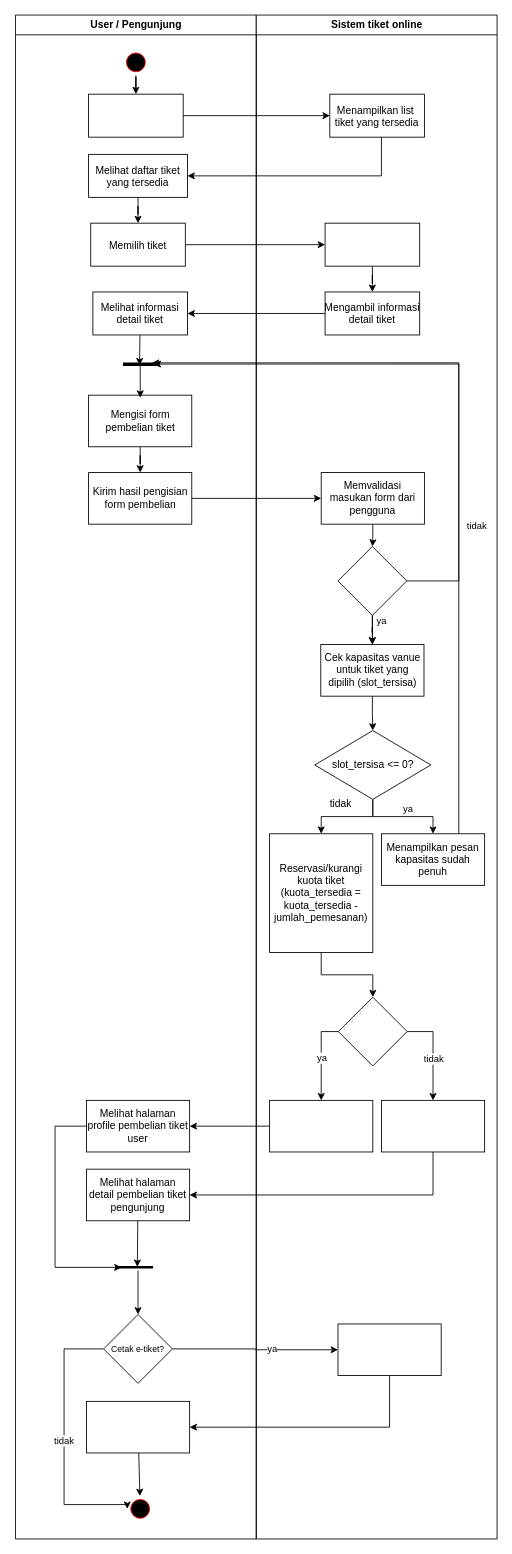
Image size: 512x1554. Some labels were removed from this diagram. Here are the shapes that lost their labels. From the top down, the centre of each, then its label:
the point at 135,115: Buka halaman
the point at 372,244: Mengarahkan ke halaman detail tiket
the point at 372,580: informasi valid?
the point at 372,1031: Login?
the point at 321,1126: Mengarahkan ke halaman profile pembelian tiket user
the point at 433,1126: Mengarahkan ke halaman detail pembelian tiket pengunjung
the point at 389,1349: Mencetak tiket dengan format pdf
the point at 138,1427: Download tiket
